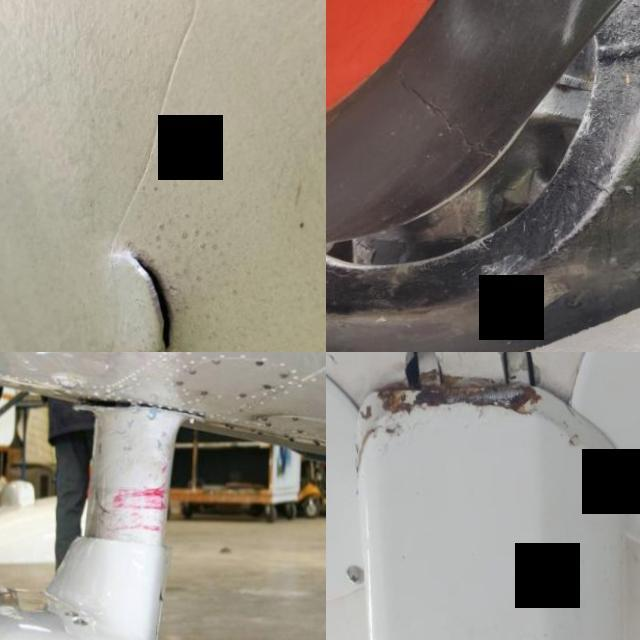Crack: (346, 352, 589, 517), (83, 222, 209, 352), (386, 62, 512, 170), (75, 392, 207, 423)
